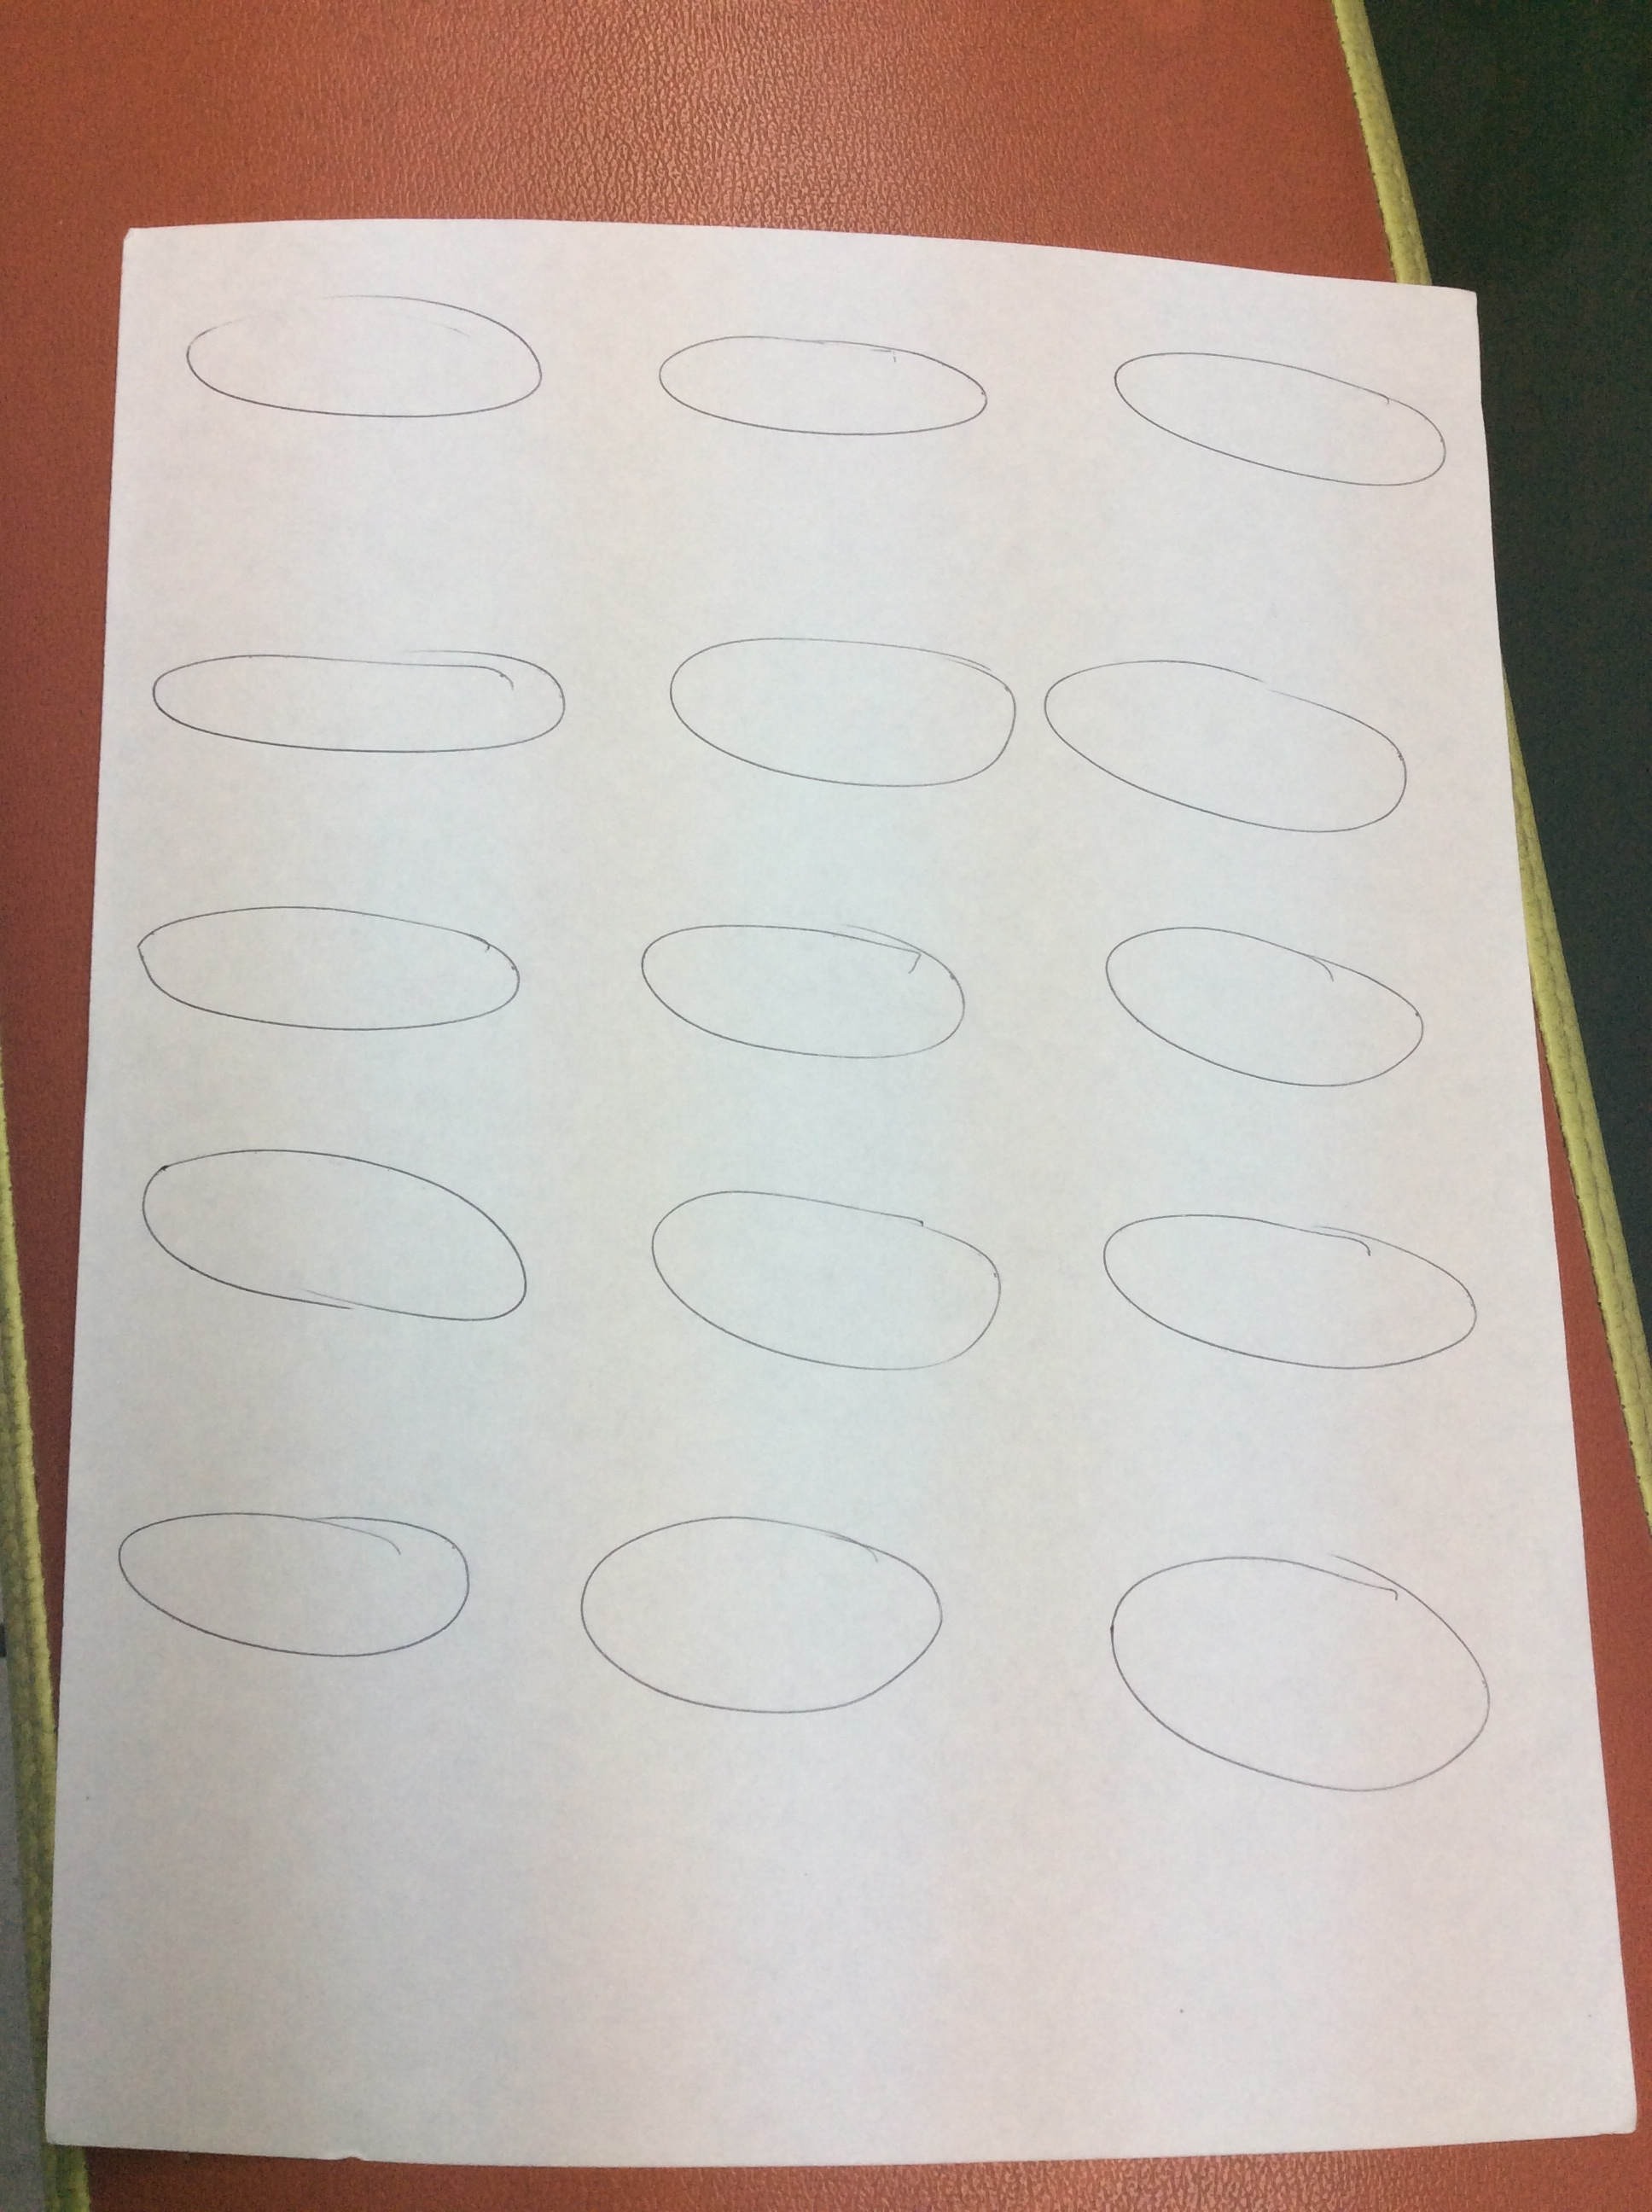start_end: (1081, 1513, 1510, 1837), (1036, 600, 1452, 867), (128, 1109, 534, 1362), (616, 1157, 1026, 1397), (1074, 1181, 1503, 1407), (562, 1495, 958, 1738), (1064, 900, 1463, 1116), (165, 260, 552, 481), (125, 861, 541, 1062), (101, 1471, 482, 1686), (665, 607, 1029, 829), (1100, 311, 1463, 529), (139, 604, 578, 782), (606, 897, 991, 1100), (637, 290, 991, 474)
